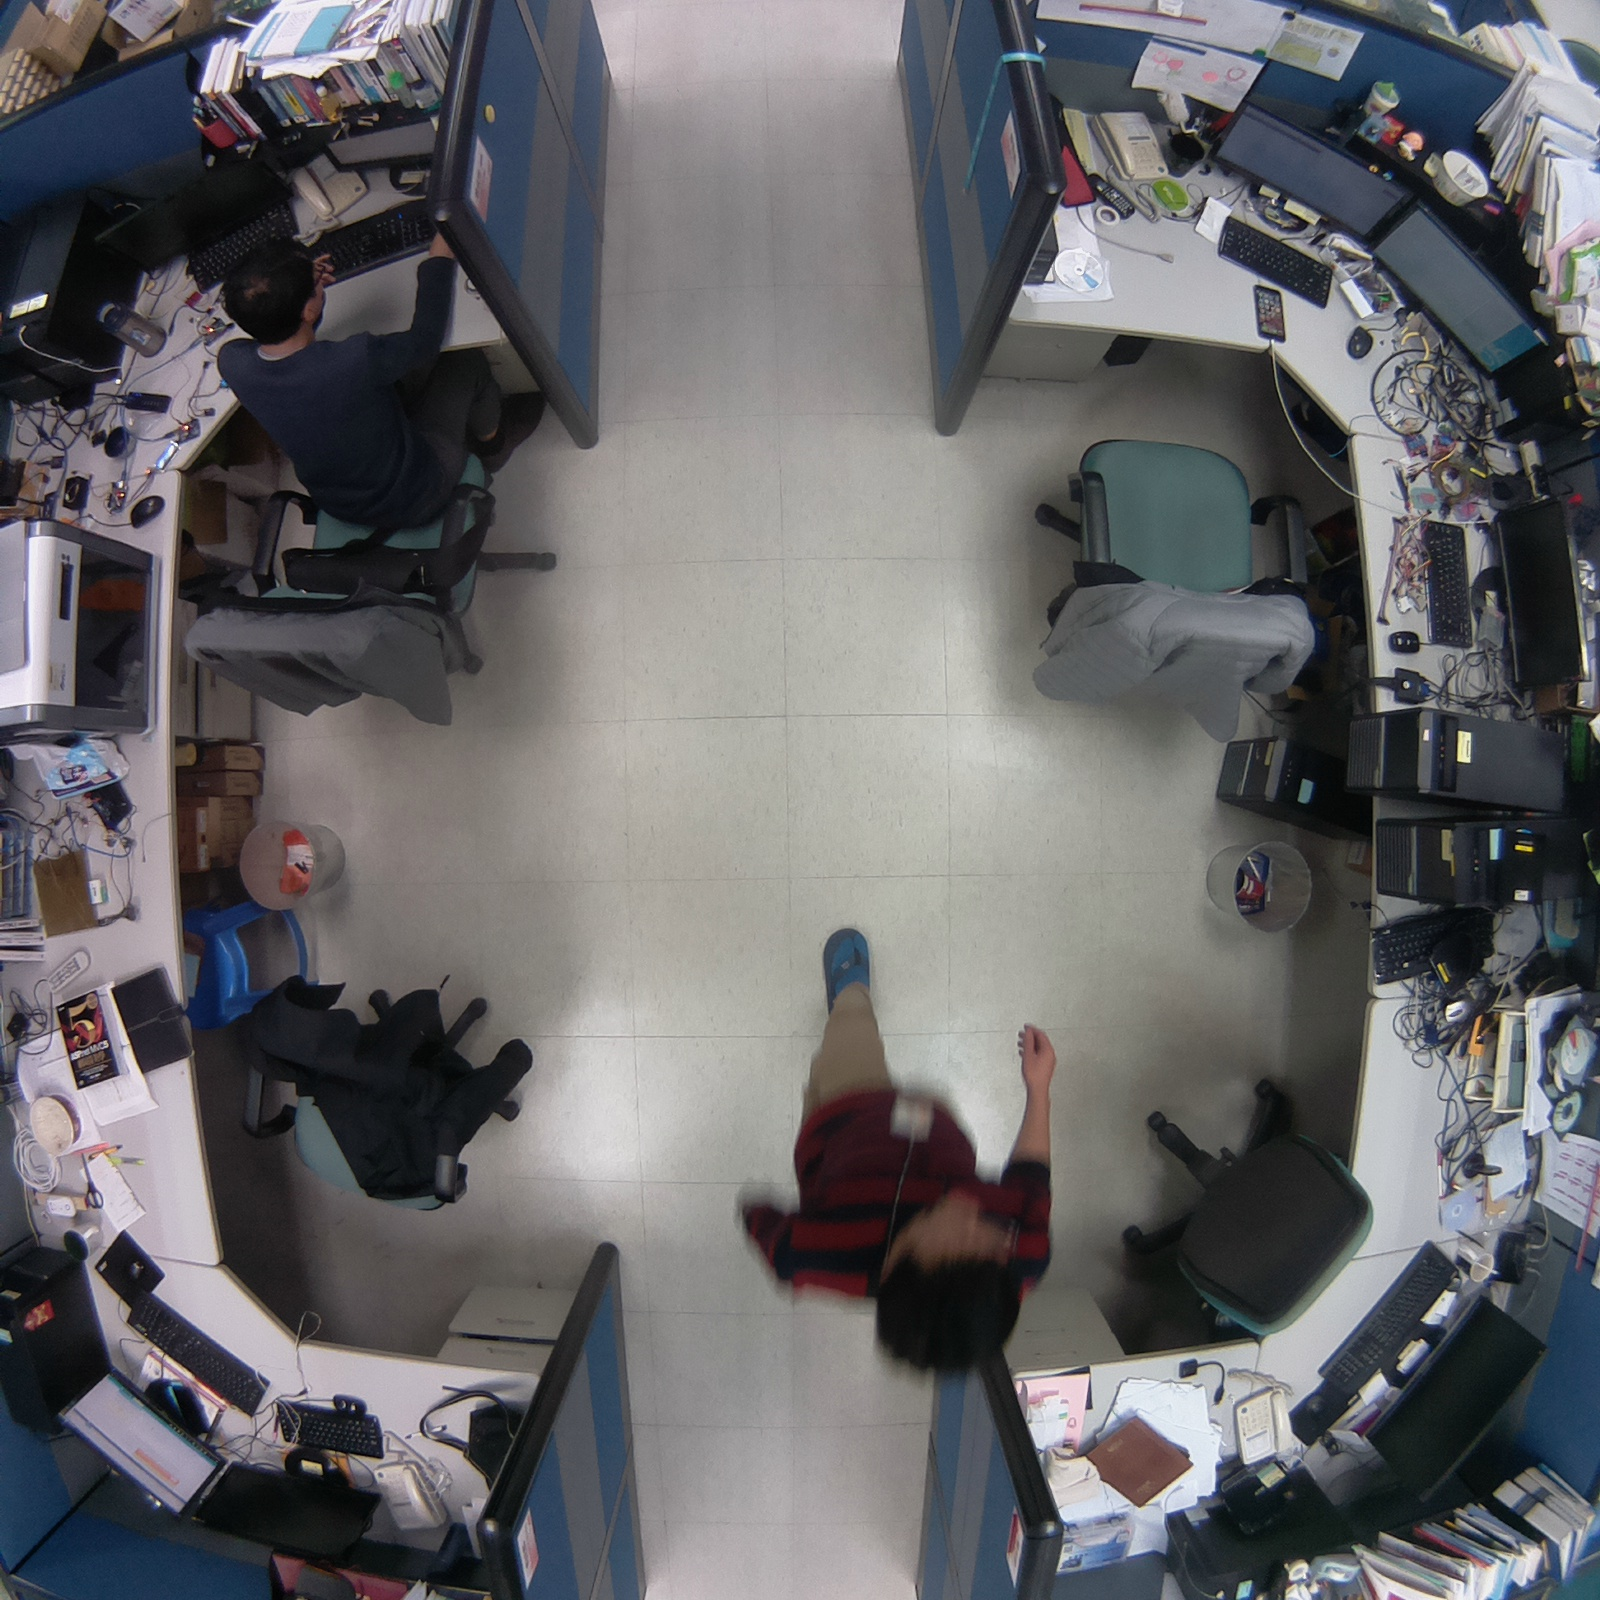chair: (1012, 406, 1324, 752), (222, 940, 565, 1217), (1094, 1060, 1391, 1358)
head: (868, 1202, 1027, 1380), (215, 229, 332, 346)
sitting: (168, 219, 588, 745)
walking: (718, 912, 1078, 1383)
